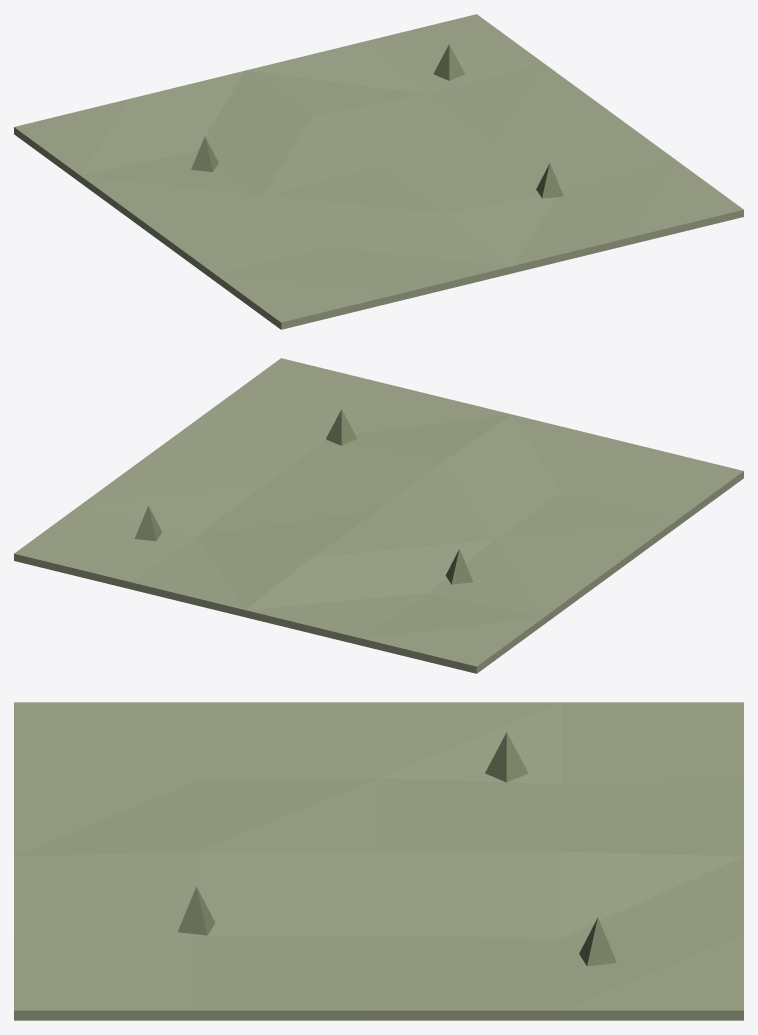
Rendered from lantai_lembah_v001.glb.
3 renders of one model, top to bottom at view 1: azimuth 30°, elevation 25°; view 2: azimuth 150°, elevation 25°; view 3: azimuth 270°, elevation 25°, orthographic. The views are drawn at different scales.
Parts seen in each view (by area): view 1: lantai_lembah; view 2: lantai_lembah; view 3: lantai_lembah.
Part boxes in pixels (x1,y1,x2,y2): lantai_lembah: (14, 14, 743, 329); lantai_lembah: (14, 358, 743, 673); lantai_lembah: (14, 702, 743, 1020).
Bounding box in the file's own units: 4 × 0.3 × 4.
